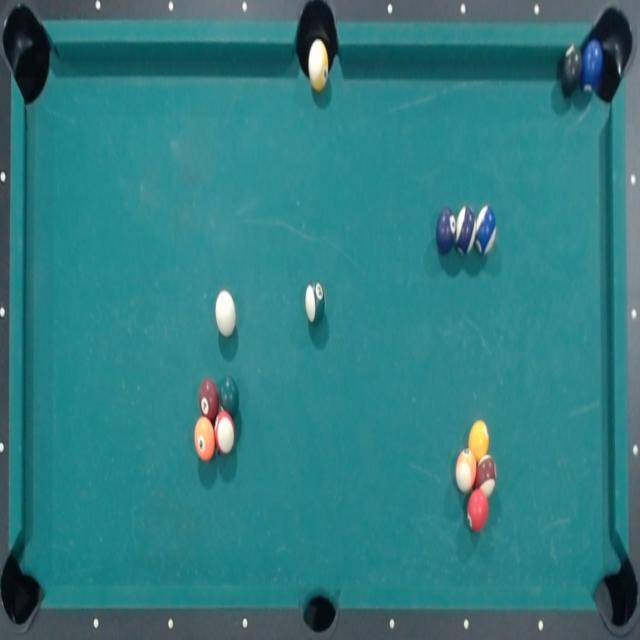black_8ball: (561, 43, 583, 97)
blue_solid: (582, 37, 604, 94)
blue_stripe: (476, 204, 497, 257)
cue_ball: (214, 288, 239, 338)
green_solid: (218, 374, 240, 419)
green_stripe: (304, 278, 328, 325)
maroon_solid: (198, 377, 220, 422)
maroon_stripe: (476, 453, 496, 498)
orange_solid: (193, 418, 216, 464)
orange_stripe: (454, 447, 478, 492)
playr: (436, 207, 456, 254)
purple_solid: (456, 206, 477, 256)
purple_stripe: (467, 488, 489, 532)
red_solid: (214, 409, 238, 455)
red_stripe: (468, 418, 490, 462)
yellow_solid: (306, 36, 332, 93)
